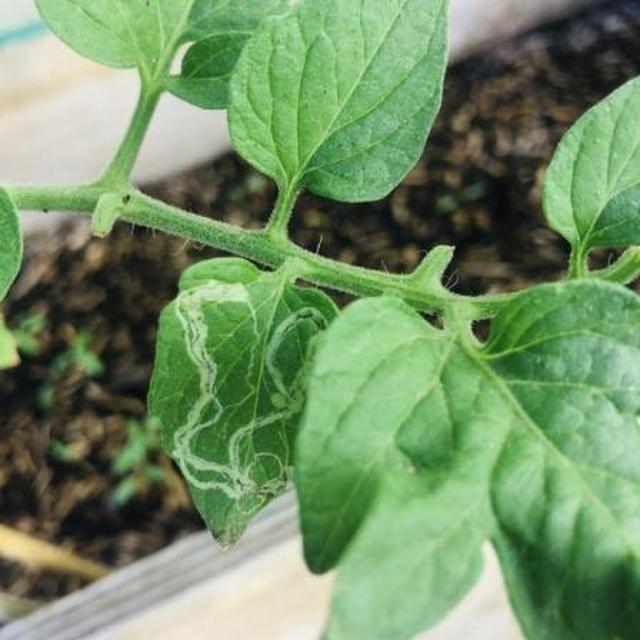Leaf Miner: (214, 360, 484, 640)
